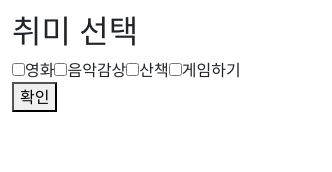
Test: 체크박스 테스트 › 영화, 음악감상을 선택한 경우
Click the checkbox labelled "영화".
click(18, 70)  # box [12,63,25,76]
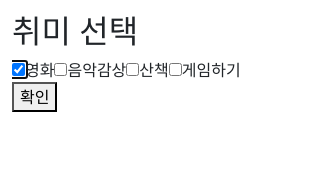
Click the checkbox labelled "음악감상".
click(61, 70)  # box [54,63,68,76]
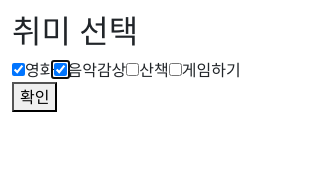
Expected: the checkbox labelled "산책" is not checked, [126,63,139,76]
Expected: the checkbox labelled "영화" is checked, [12,63,25,76]
Expected: the checkbox labelled "음악감상" is checked, [54,63,68,76]
Click the button "확인".
click(35, 97)  # box [12,82,58,112]
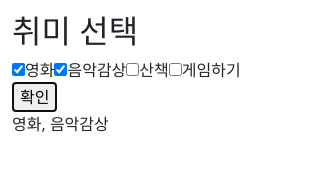
Expected: the text with test id "result" reads "영화, 음악감상", [12,113,109,135]
